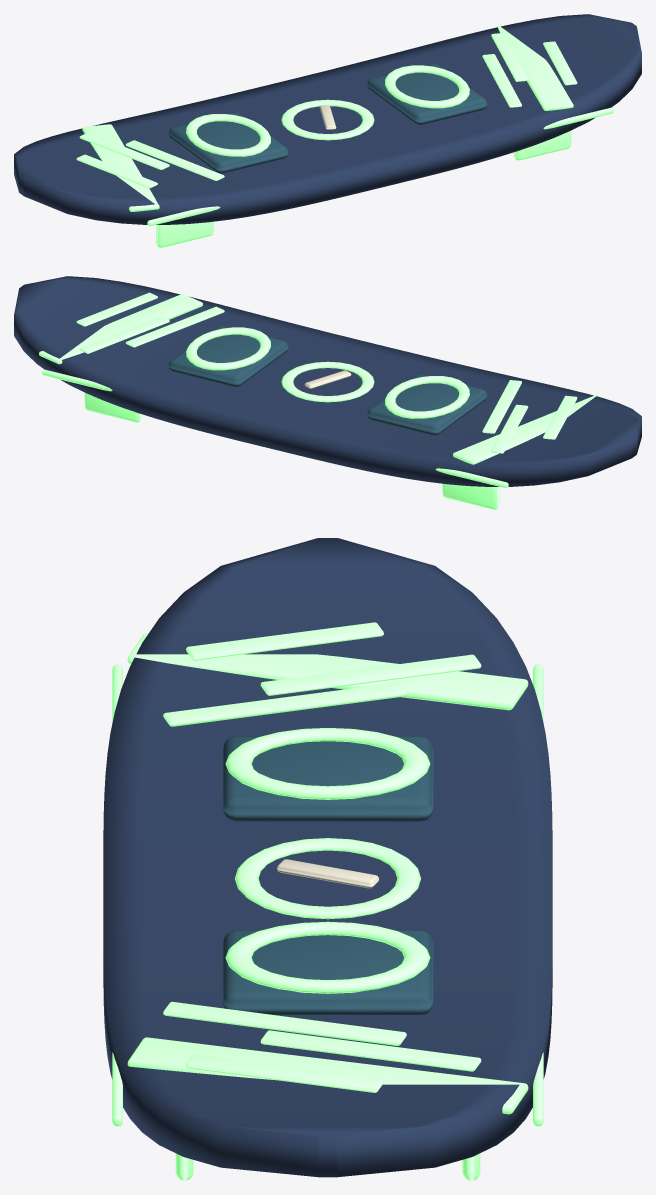
Rendered from board-stealth.glb.
3 renders of one model, top to bottom at view 1: azimuth 30°, elevation 25°; view 2: azimuth 150°, elevation 25°; view 3: azimuth 270°, elevation 25°, orthographic. The views are drawn at different scales.
Visible parts, largest first — view 1: Board_stealth; view 2: Board_stealth; view 3: Board_stealth.
Part boxes in pixels (<box>): Board_stealth: <box>14,14,641,247</box>; Board_stealth: <box>14,276,641,509</box>; Board_stealth: <box>103,538,552,1180</box>.
Bounding box in the file's own units: 2.96 × 0.335 × 0.94.
